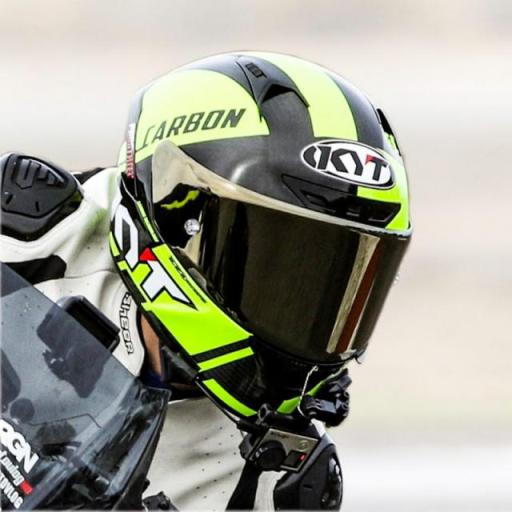Helmet: (98, 46, 426, 426)
